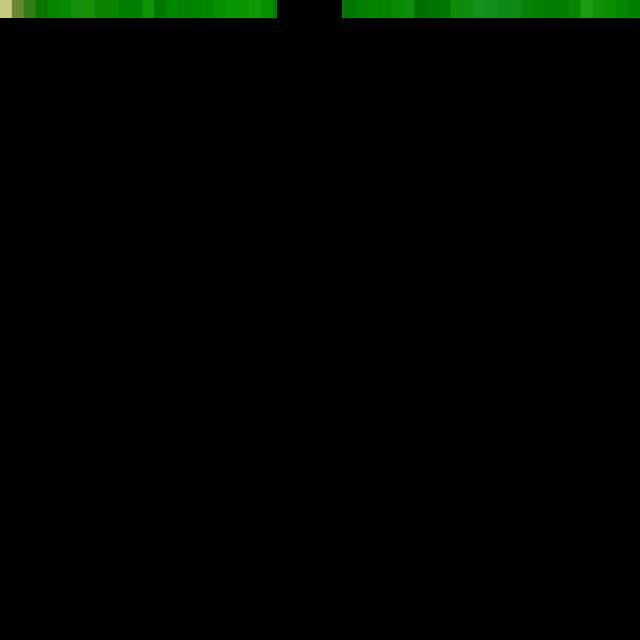nofire: (0, 18, 640, 640)
